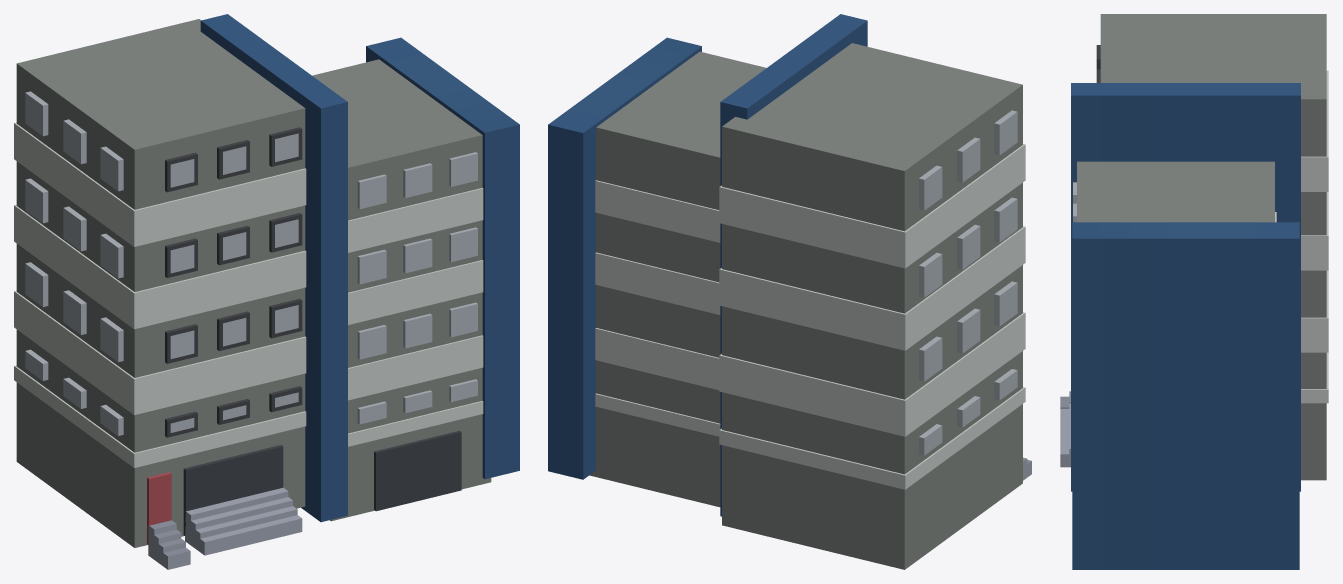
File: Building_01.fbx
3 renders of one model, left to right at view 1: azimuth 30°, elevation 25°; view 2: azimuth 150°, elevation 25°; view 3: azimuth 270°, elevation 25°, orthographic. The views are drawn at different scales.
Parts seen in each view (by area): view 1: polySurface1947; view 2: polySurface1947; view 3: polySurface1947.
Part boxes in pixels (<box>): polySurface1947: <box>14,14,519,569</box>; polySurface1947: <box>548,14,1031,569</box>; polySurface1947: <box>1060,14,1328,569</box>.
Size of the model in its own units: 2.08 by 2.21 by 1.34.
